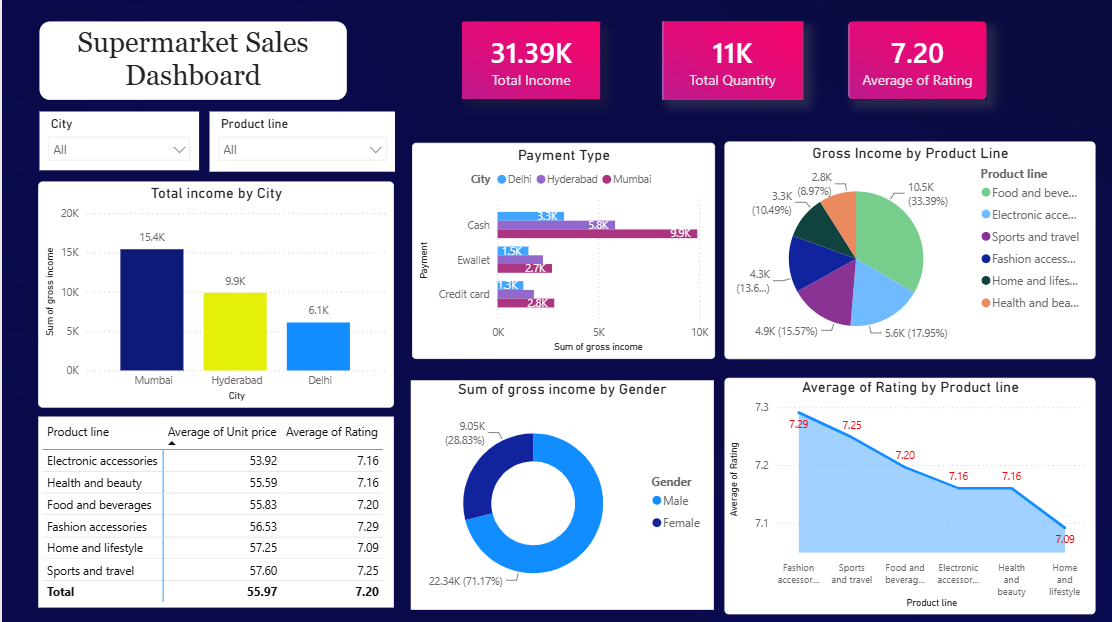

Layout of this report page (visuals, bound fields, positions):
{"tool":"powerbi","page":{"name":"Page 1","canvas":[1280,720],"ordinal":0},"visuals":[{"type":"textbox","box":[42.2,25.3,351.1,89.3],"z":0},{"type":"cardVisual","fields":{"Data":["Sum(Sheet1.gross income)"]},"box":[526,25.3,158,89.3],"z":1000},{"type":"cardVisual","fields":{"Data":["Sum(Sheet1.Quantity)"]},"box":[754,25.3,161.7,89.3],"z":2000},{"type":"cardVisual","fields":{"Data":["Avg(Sheet1.Rating)"]},"box":[967.6,25.3,158,89.3],"z":3000},{"type":"columnChart","title":"Total  income by City","fields":{"Category":["Sheet1.City"],"Y":["Sum(Sheet1.gross income)"]},"box":[41.2,208.8,406.2,258.8],"z":4000},{"type":"clusteredBarChart","title":"Payment Type","fields":{"Y":["Sum(Sheet1.gross income)"],"Category":["Sheet1.Payment"],"Series":["Sheet1.City"]},"box":[468.8,163.8,346.2,247.5],"z":5000},{"type":"areaChart","fields":{"Category":["Sheet1.Product line"],"Y":["Avg(Sheet1.Rating)"]},"box":[826.2,432.5,423.8,270],"z":6000},{"type":"pieChart","title":"Gross Income by Product Line","fields":{"Category":["Sheet1.Product line"],"Y":["Sum(Sheet1.gross income)"]},"box":[826.2,162.5,423.8,248.8],"z":7000},{"type":"donutChart","fields":{"Y":["Sum(Sheet1.gross income)"],"Category":["Sheet1.Gender"]},"box":[467.5,436.2,346.2,262.5],"z":8000},{"type":"pivotTable","fields":{"Rows":["Sheet1.Product line"],"Values":["Avg(Sheet1.Unit price)","Avg(Sheet1.Rating)"]},"box":[41.2,477.5,406.2,218.8],"z":9000},{"type":"slicer","fields":{"Values":["Sheet1.City"]},"box":[42.2,129.1,182.2,67.6],"z":10000},{"type":"slicer","fields":{"Values":["Sheet1.Product line"]},"box":[236.5,127.9,212.3,68.8],"z":11000}]}

Visuals, with their boxes in screenshot pixels (x1, y1, x2, y2), scaled from the page's 1280x720 canvas onto the 1112x622 screenshot:
textbox: x1=37 y1=22 x2=342 y2=99
cardVisual - Sum(Sheet1.gross income): x1=457 y1=22 x2=594 y2=99
cardVisual - Sum(Sheet1.Quantity): x1=655 y1=22 x2=796 y2=99
cardVisual - Avg(Sheet1.Rating): x1=841 y1=22 x2=978 y2=99
"Total  income by City" columnChart: x1=36 y1=180 x2=389 y2=404
"Payment Type" clusteredBarChart: x1=407 y1=142 x2=708 y2=355
areaChart - Sheet1.Product line x Avg(Sheet1.Rating): x1=718 y1=374 x2=1086 y2=607
"Gross Income by Product Line" pieChart: x1=718 y1=140 x2=1086 y2=355
donutChart - Sum(Sheet1.gross income) x Sheet1.Gender: x1=406 y1=377 x2=707 y2=604
pivotTable - Sheet1.Product line x Avg(Sheet1.Unit price): x1=36 y1=413 x2=389 y2=602
slicer - Sheet1.City: x1=37 y1=112 x2=195 y2=170
slicer - Sheet1.Product line: x1=205 y1=110 x2=390 y2=170
